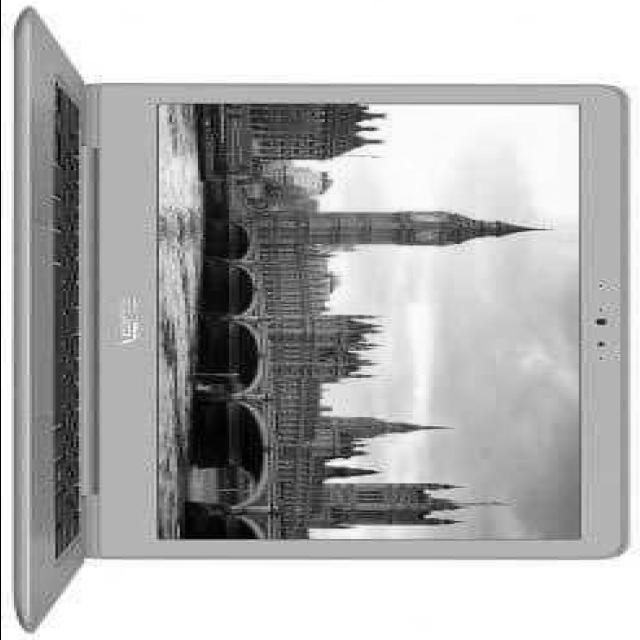laptop: (0, 9, 631, 604)
